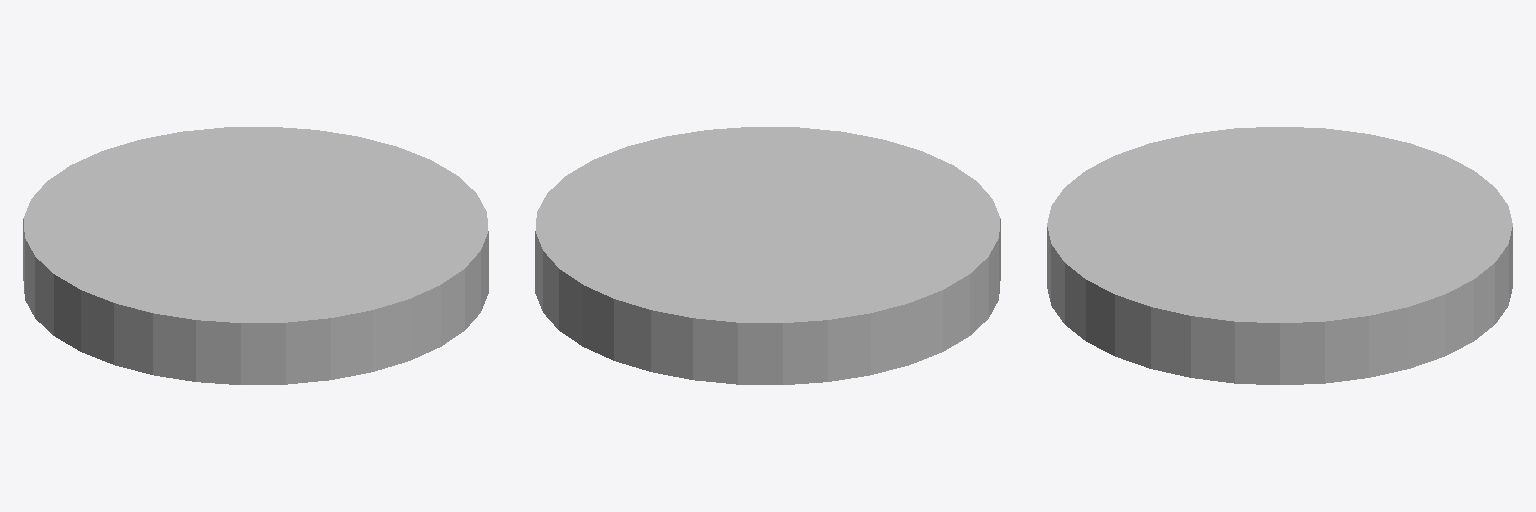
The model's file is 3DSupportLightBase.obj.
3 renders of one model, left to right at view 1: azimuth 30°, elevation 25°; view 2: azimuth 150°, elevation 25°; view 3: azimuth 270°, elevation 25°, orthographic.
Visible parts, largest first — view 1: Cylinder; view 2: Cylinder; view 3: Cylinder.
Boxes of the visible parts, x1,y1,x2,y2 form: Cylinder: [23, 127, 488, 384]; Cylinder: [535, 127, 1000, 384]; Cylinder: [1047, 127, 1512, 384].
Bounding box in the file's own units: 2 × 0.2938 × 2.